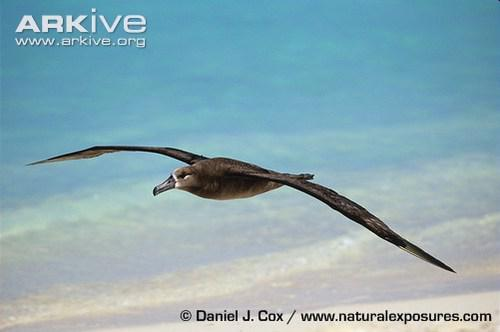001.Black_footed_Albatross: (24, 141, 454, 273)
